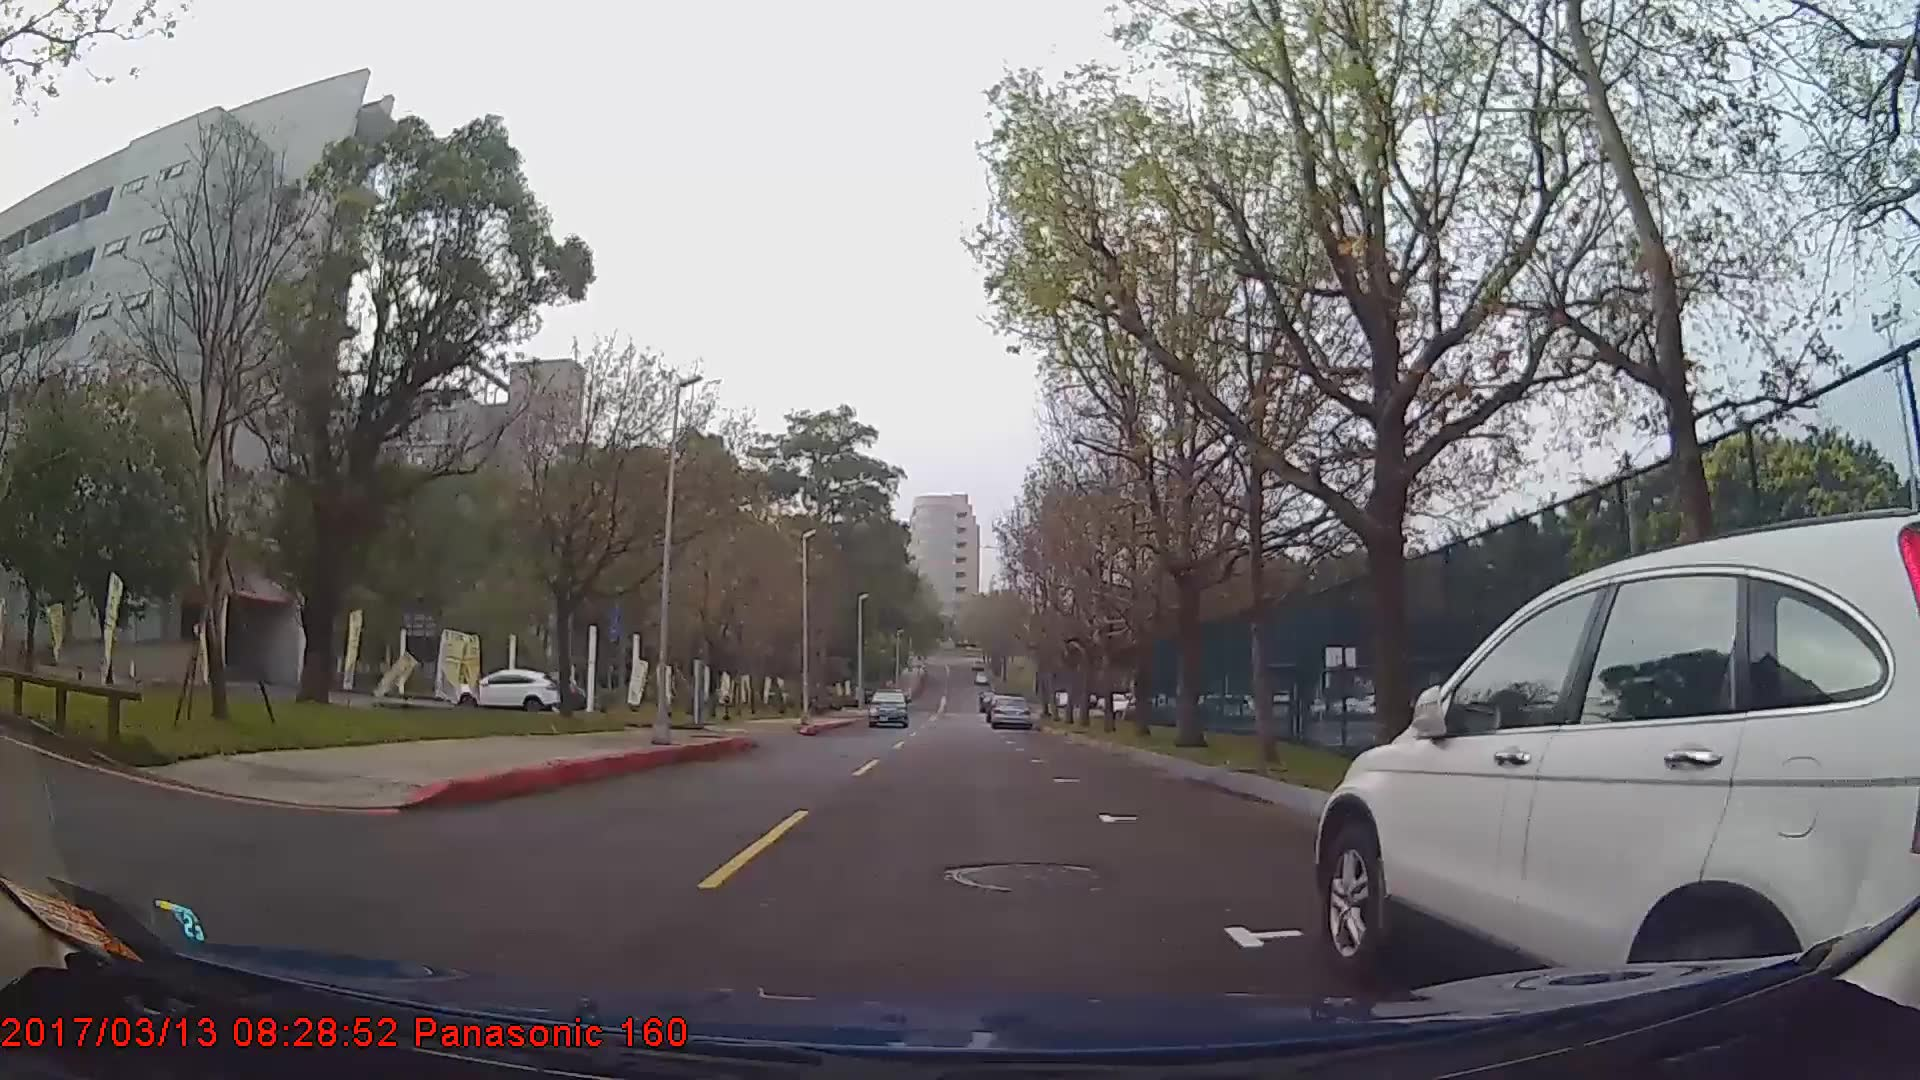vehicle: (1316, 510, 1916, 1031), (456, 667, 563, 713), (869, 687, 910, 728), (989, 692, 1033, 731)
